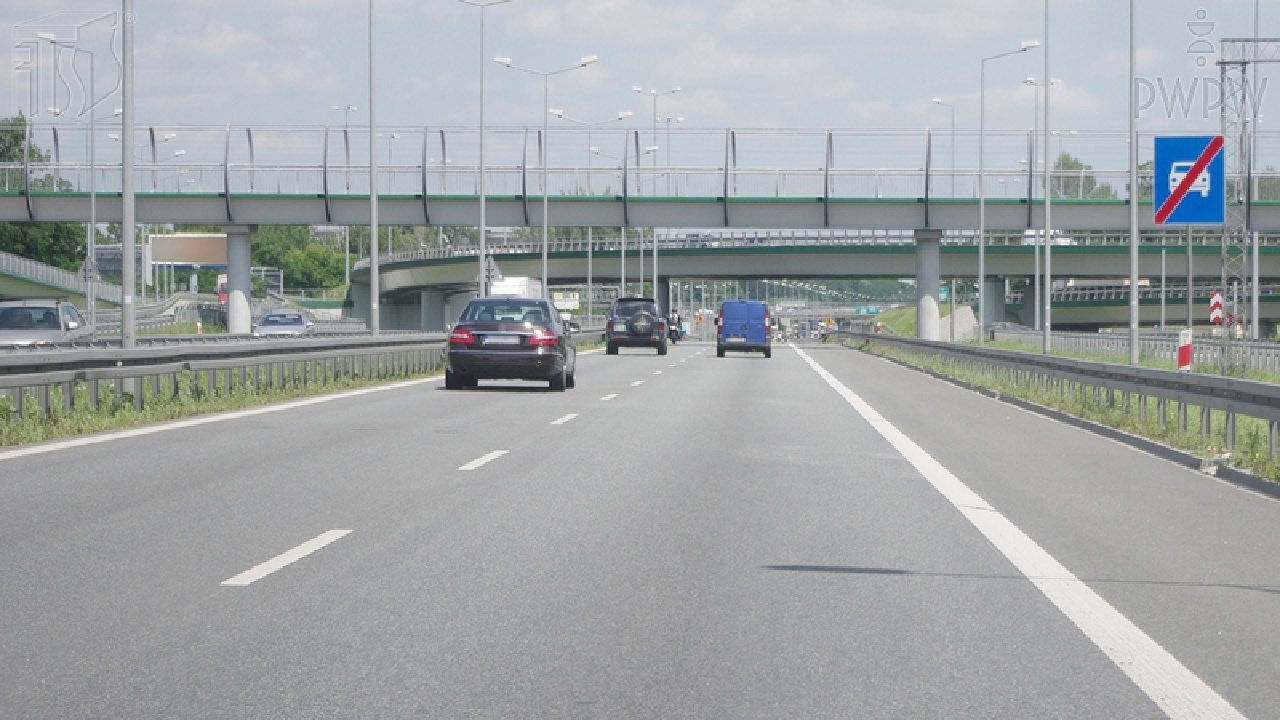D8: (1153, 135, 1226, 224)
